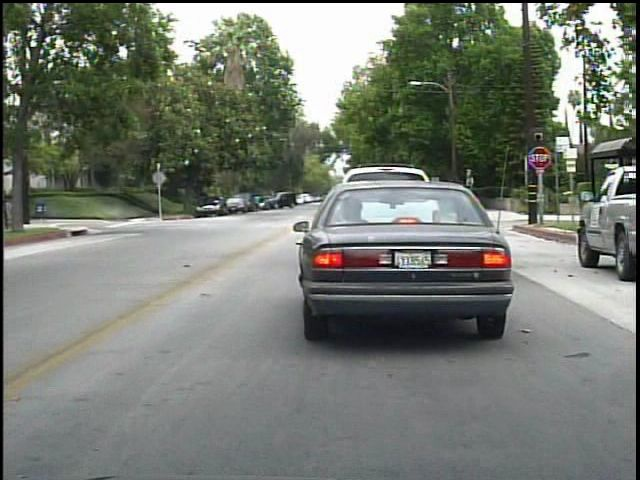person: (252, 190, 263, 214)
